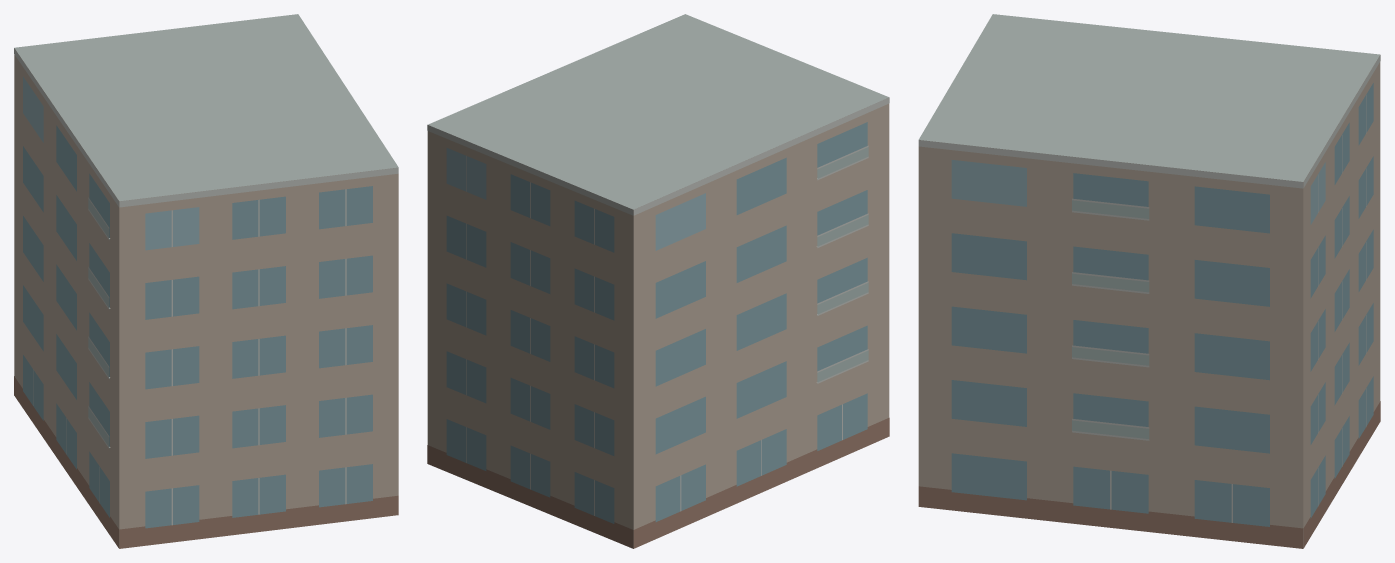
File: survey-upis-32871703.glb
3 views of the same model, side by side, from view 1: azimuth 30°, elevation 25°; view 2: azimuth 150°, elevation 25°; view 3: azimuth 270°, elevation 25° (orthographic). The views are drawn at different scales.
Parts seen in each view (by area): view 1: survey-upis-32871703.tmp; view 2: survey-upis-32871703.tmp; view 3: survey-upis-32871703.tmp.
Part boxes in pixels (x1,y1,x2,y2): survey-upis-32871703.tmp: (14,14,398,548); survey-upis-32871703.tmp: (427,14,889,548); survey-upis-32871703.tmp: (918,14,1380,548).
Size of the model in its own units: 13.37 by 13.6 by 15.53.
